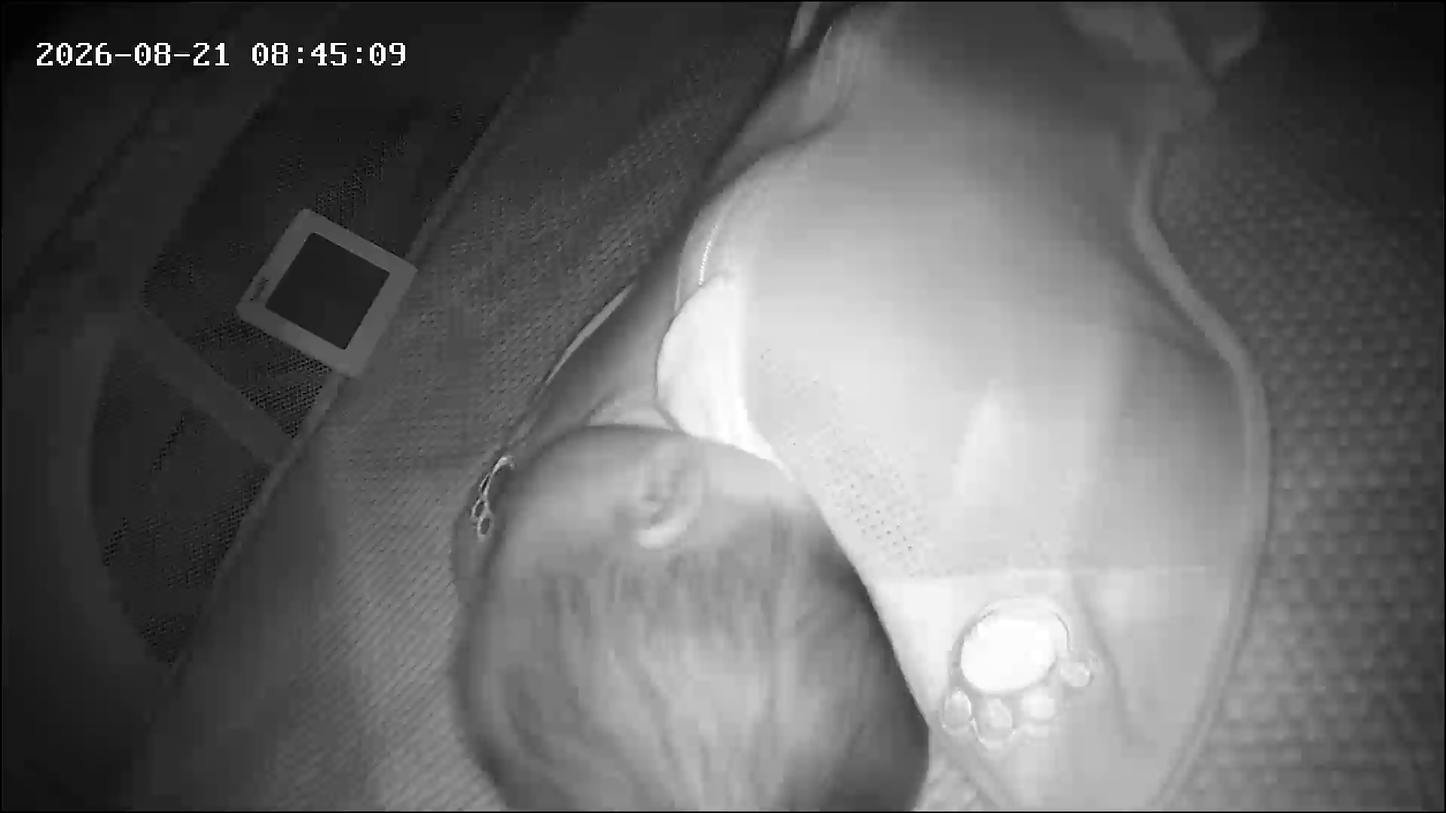baby: (459, 0, 1320, 810)
baby_face: (442, 397, 942, 812)
